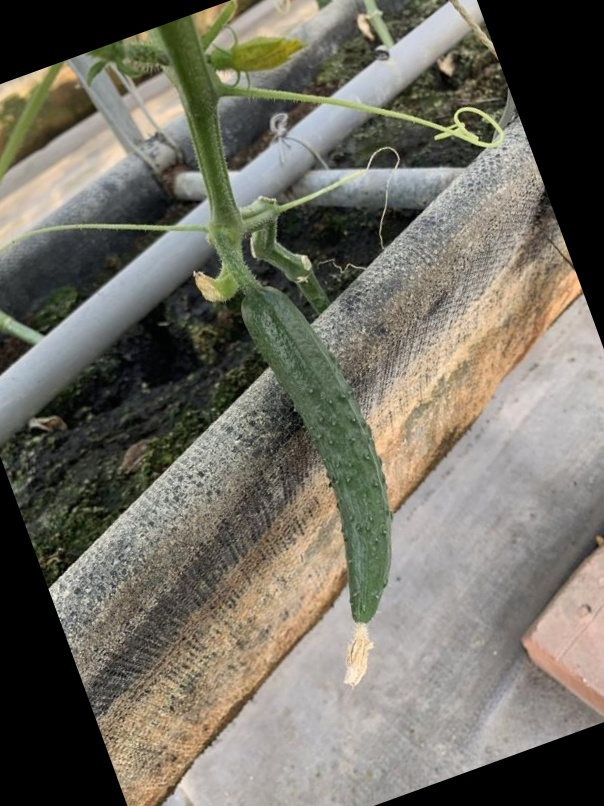mature: (242, 283, 403, 641)
